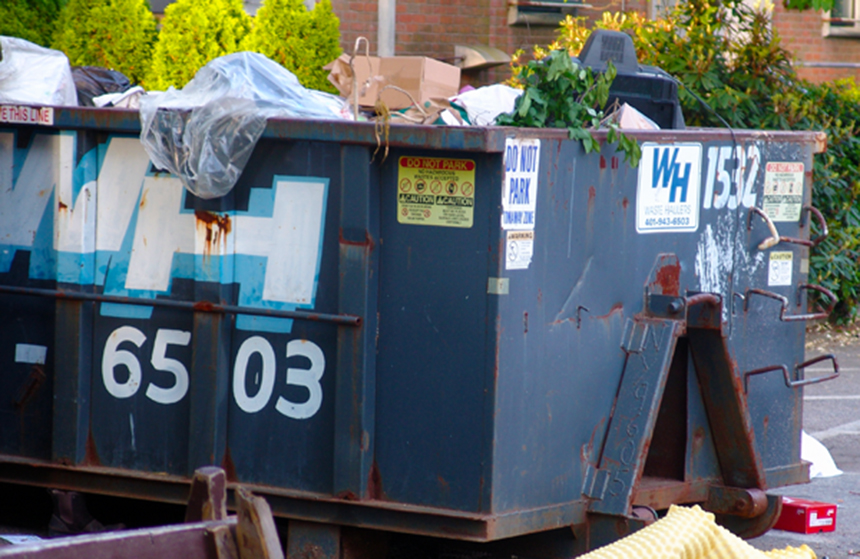Dumpster: (1, 94, 835, 546)
